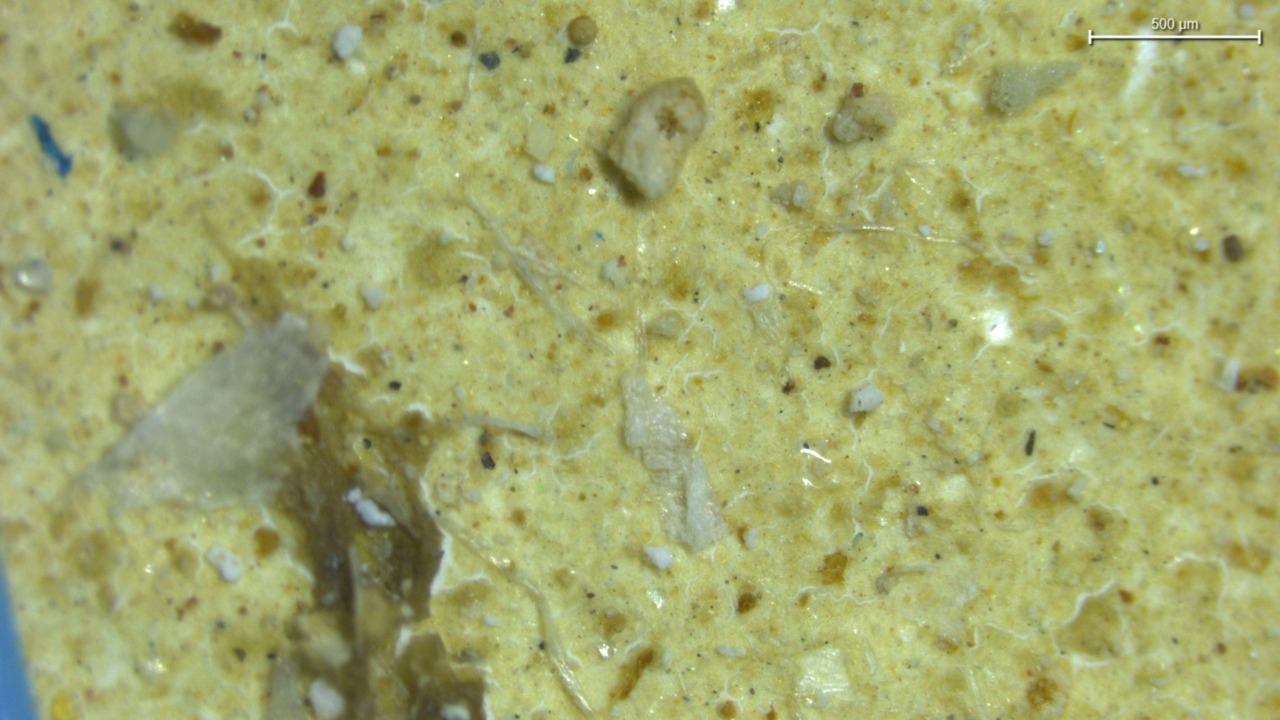microplastic_fragment: (607, 78, 706, 198), (848, 384, 883, 413)
